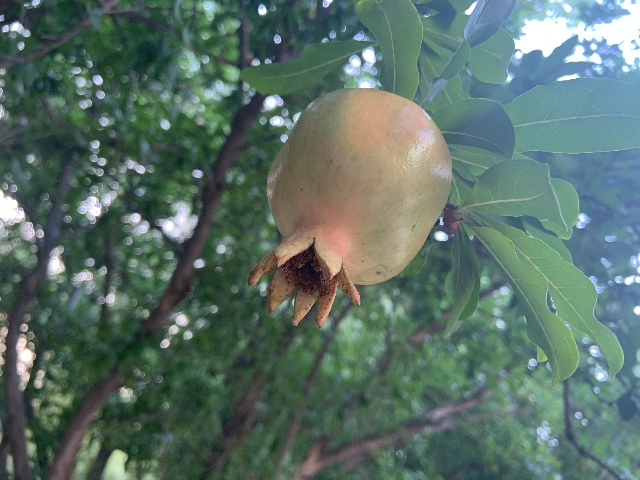mid-growth: (244, 87, 452, 331)
